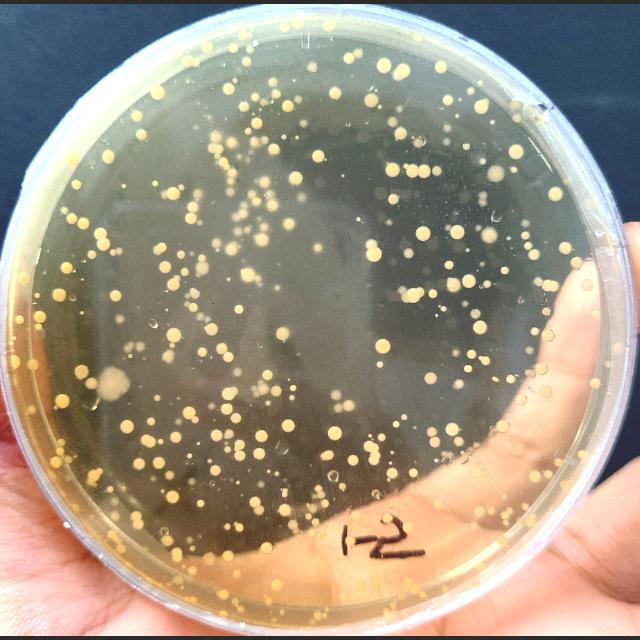colony: (97, 366, 131, 402), (486, 164, 506, 183), (480, 226, 498, 244), (581, 261, 597, 277), (64, 151, 80, 167), (240, 267, 256, 283), (508, 144, 524, 160), (366, 246, 382, 262), (473, 99, 489, 115), (74, 364, 90, 380), (375, 338, 391, 354), (376, 58, 392, 74), (385, 162, 401, 178), (415, 226, 431, 242), (450, 224, 466, 240), (166, 327, 182, 343), (547, 186, 563, 202), (397, 62, 411, 76), (96, 238, 110, 252), (514, 392, 528, 406), (364, 94, 378, 108), (102, 150, 116, 164), (56, 394, 70, 408), (52, 288, 66, 302), (473, 320, 487, 334), (496, 419, 510, 433), (542, 328, 556, 342), (196, 261, 210, 275), (539, 384, 553, 398), (205, 322, 219, 336), (151, 86, 165, 100), (120, 420, 134, 434), (289, 171, 303, 185), (394, 127, 408, 141), (276, 327, 290, 341), (282, 419, 296, 433), (166, 490, 180, 504), (462, 274, 476, 288), (328, 426, 342, 440), (10, 354, 22, 370), (406, 289, 419, 303), (255, 232, 269, 245), (152, 456, 166, 469), (528, 471, 542, 484), (182, 406, 195, 419), (140, 434, 154, 446), (612, 343, 626, 355), (322, 20, 336, 32), (524, 514, 536, 528), (144, 436, 158, 448), (34, 310, 46, 324), (448, 278, 460, 292), (582, 278, 594, 292), (168, 187, 180, 201), (570, 256, 582, 270), (558, 242, 572, 254), (204, 552, 216, 566), (329, 86, 341, 100), (94, 227, 108, 239), (445, 424, 459, 436), (536, 362, 548, 376), (424, 373, 438, 385), (278, 504, 292, 516), (160, 260, 172, 274), (406, 165, 418, 178), (162, 351, 174, 364), (225, 244, 238, 256), (49, 456, 62, 468), (418, 165, 430, 178), (167, 279, 180, 291), (85, 378, 98, 390), (210, 430, 223, 442), (220, 403, 233, 415), (512, 442, 524, 454), (18, 272, 30, 284), (363, 440, 375, 452), (471, 467, 483, 479), (222, 388, 234, 400), (355, 580, 367, 592), (402, 521, 414, 533), (27, 359, 39, 371), (170, 431, 182, 443), (61, 262, 73, 274), (78, 218, 90, 230), (110, 290, 122, 302), (387, 467, 399, 479), (253, 448, 265, 460), (312, 150, 324, 162), (222, 550, 234, 562), (528, 248, 540, 260), (435, 61, 447, 73), (133, 458, 145, 470), (261, 542, 273, 554), (223, 83, 235, 95), (282, 100, 294, 112), (256, 430, 268, 442), (185, 213, 198, 224), (412, 138, 426, 148), (401, 292, 412, 304), (351, 511, 363, 522), (432, 498, 444, 509), (66, 213, 78, 224), (230, 412, 242, 423), (586, 198, 596, 210), (172, 548, 182, 560), (542, 280, 552, 292), (496, 534, 506, 546), (548, 282, 560, 292), (210, 132, 222, 142), (366, 239, 378, 249), (250, 136, 260, 148), (88, 470, 100, 480), (202, 42, 214, 52), (226, 138, 238, 148), (172, 575, 184, 585), (132, 110, 142, 122), (382, 512, 392, 524), (130, 511, 142, 521), (268, 199, 278, 211), (234, 440, 246, 450), (474, 506, 486, 516), (217, 590, 229, 600), (443, 94, 453, 106), (162, 536, 174, 546), (210, 466, 222, 476), (258, 384, 268, 396), (216, 344, 228, 354), (260, 176, 270, 188), (136, 130, 148, 140), (284, 218, 294, 230), (330, 390, 342, 400), (252, 117, 262, 129), (262, 370, 274, 380), (268, 144, 280, 154), (348, 454, 358, 466), (270, 386, 282, 396), (108, 530, 119, 540), (454, 378, 464, 389), (430, 437, 440, 448), (250, 497, 260, 508), (388, 193, 398, 204), (454, 437, 464, 448), (344, 401, 354, 412), (225, 428, 235, 439), (234, 452, 246, 461), (296, 193, 306, 203), (510, 100, 520, 110), (393, 70, 403, 80), (27, 404, 37, 414), (214, 144, 224, 154), (152, 246, 162, 256), (354, 49, 364, 59), (324, 450, 334, 460), (238, 208, 248, 218), (346, 536, 356, 546), (116, 544, 126, 554), (368, 456, 378, 466), (230, 596, 240, 606), (313, 611, 323, 621), (135, 342, 145, 352), (115, 314, 125, 324), (288, 519, 298, 529), (110, 511, 120, 521), (229, 43, 239, 53), (188, 566, 198, 576), (512, 113, 522, 123), (308, 62, 318, 72), (470, 309, 480, 319), (211, 238, 221, 248), (506, 374, 516, 384), (590, 378, 600, 388), (268, 77, 278, 87), (134, 520, 144, 530), (72, 180, 82, 190), (254, 506, 264, 516), (197, 347, 207, 357), (239, 102, 249, 112), (432, 166, 442, 176), (388, 117, 398, 127), (188, 202, 198, 212), (344, 54, 354, 64), (234, 304, 244, 314), (272, 580, 282, 590), (404, 249, 414, 259), (224, 352, 234, 362), (410, 584, 420, 594), (404, 577, 414, 587), (560, 480, 570, 490), (362, 516, 371, 526), (370, 443, 380, 452), (427, 428, 437, 437), (466, 349, 476, 358), (408, 468, 418, 477), (543, 469, 553, 478), (412, 34, 423, 42), (333, 403, 342, 412), (372, 576, 380, 586), (370, 452, 380, 460), (174, 552, 182, 562), (182, 58, 192, 66), (265, 190, 275, 198), (192, 290, 200, 300), (478, 191, 488, 199), (16, 315, 24, 325), (442, 124, 452, 132), (56, 447, 66, 455), (218, 157, 228, 165), (271, 90, 281, 98), (157, 243, 167, 251), (259, 223, 269, 231), (110, 498, 120, 506), (265, 596, 273, 606), (524, 346, 534, 354), (228, 168, 236, 178), (482, 356, 490, 366), (234, 368, 242, 378), (64, 454, 72, 464), (234, 227, 242, 237), (488, 506, 496, 516), (482, 280, 492, 288), (314, 243, 322, 253), (180, 268, 190, 276), (428, 290, 438, 298), (444, 261, 454, 269), (242, 58, 252, 66), (166, 470, 174, 480), (476, 562, 484, 572), (126, 560, 134, 570), (281, 23, 289, 32), (499, 511, 508, 519), (578, 449, 586, 458), (398, 286, 407, 294), (309, 503, 317, 512), (554, 458, 562, 467), (244, 156, 253, 164), (403, 496, 412, 504), (158, 581, 165, 591), (320, 453, 328, 461), (87, 478, 95, 486), (451, 458, 459, 466), (479, 199, 487, 207), (294, 20, 302, 28), (61, 206, 69, 214), (207, 144, 215, 152), (528, 370, 536, 378), (192, 59, 200, 67), (416, 288, 424, 296), (474, 456, 482, 464), (604, 360, 612, 368), (239, 32, 247, 40), (582, 343, 590, 351), (174, 418, 182, 426), (592, 310, 600, 318), (246, 46, 254, 54), (232, 213, 240, 221), (467, 87, 475, 95), (230, 387, 238, 395), (196, 313, 204, 321), (392, 420, 400, 428), (236, 524, 244, 532), (116, 247, 124, 255), (123, 345, 131, 353), (318, 529, 326, 537), (194, 190, 202, 198), (237, 605, 245, 613), (309, 529, 317, 537), (248, 190, 256, 198), (521, 503, 529, 511), (470, 522, 478, 530), (395, 105, 403, 113), (542, 307, 550, 315), (294, 96, 302, 104), (58, 438, 66, 446), (233, 570, 241, 578), (464, 365, 472, 373), (188, 478, 196, 486), (524, 242, 532, 250), (300, 120, 308, 128), (224, 446, 232, 454), (198, 254, 206, 262), (317, 491, 325, 499), (208, 402, 216, 410), (452, 349, 460, 357), (501, 266, 509, 274), (443, 138, 451, 146), (252, 198, 260, 206), (312, 518, 320, 526), (147, 418, 155, 426), (261, 136, 269, 144), (321, 499, 329, 507), (531, 327, 539, 335), (177, 251, 185, 259), (226, 188, 234, 196), (251, 93, 259, 101), (534, 278, 542, 286), (378, 433, 386, 441), (190, 304, 198, 312), (88, 250, 96, 258), (441, 584, 449, 592), (398, 591, 406, 599), (220, 610, 228, 618), (190, 596, 198, 604), (145, 576, 153, 584), (254, 281, 264, 287), (521, 220, 529, 227), (213, 152, 220, 160), (500, 494, 508, 501), (243, 226, 250, 234), (400, 414, 408, 421), (227, 178, 235, 185), (338, 484, 346, 491), (197, 499, 205, 506), (419, 590, 426, 598), (384, 607, 391, 615), (223, 163, 230, 170), (479, 158, 486, 165), (388, 500, 394, 508), (468, 456, 476, 462), (160, 192, 168, 198), (252, 391, 260, 397), (204, 316, 212, 322), (446, 452, 454, 458), (142, 546, 148, 554), (476, 224, 482, 232), (516, 518, 524, 524), (386, 218, 392, 226), (254, 276, 262, 282), (462, 144, 470, 150), (186, 538, 194, 544), (279, 608, 285, 616), (462, 300, 468, 308), (154, 394, 160, 402), (376, 362, 384, 368), (292, 528, 300, 534), (178, 184, 184, 192), (472, 442, 480, 448), (521, 232, 529, 238), (106, 486, 114, 492), (244, 128, 252, 134), (240, 202, 248, 208), (506, 508, 514, 514), (315, 486, 323, 492), (257, 482, 265, 488), (308, 620, 316, 626), (36, 324, 42, 331), (173, 275, 180, 281), (248, 148, 255, 154), (312, 494, 318, 500), (150, 476, 156, 482), (128, 342, 134, 348), (196, 272, 202, 278), (184, 301, 190, 307), (236, 154, 242, 160), (271, 618, 277, 624), (282, 488, 288, 494), (492, 376, 498, 382), (251, 386, 257, 392), (324, 607, 330, 613), (282, 491, 288, 497), (441, 451, 447, 457), (322, 612, 328, 618), (96, 468, 102, 474), (190, 546, 196, 552), (274, 285, 280, 291), (169, 342, 175, 348), (184, 293, 190, 299), (158, 439, 164, 445), (232, 78, 238, 84), (265, 400, 271, 406), (503, 520, 509, 526), (152, 180, 158, 186), (110, 250, 116, 256), (225, 524, 231, 530), (306, 514, 312, 520), (290, 385, 296, 391), (192, 417, 198, 423), (390, 602, 396, 608), (390, 608, 396, 614), (256, 216, 262, 222), (260, 100, 268, 104), (248, 32, 252, 38), (198, 220, 202, 226), (206, 116, 212, 120), (540, 424, 546, 428), (118, 538, 122, 544), (478, 356, 484, 360), (480, 262, 486, 266), (306, 502, 310, 508), (506, 236, 512, 240), (478, 80, 482, 86), (34, 294, 40, 298), (511, 168, 517, 172), (442, 306, 446, 312), (356, 216, 360, 222), (282, 134, 286, 140), (190, 251, 194, 257), (458, 96, 462, 102), (177, 396, 181, 400), (181, 585, 185, 589), (237, 245, 241, 249), (526, 370, 530, 374), (80, 311, 84, 315), (161, 489, 165, 493), (404, 164, 408, 168), (215, 248, 219, 252), (460, 451, 464, 455), (254, 42, 258, 46), (434, 458, 438, 462), (368, 434, 372, 438), (390, 451, 394, 455), (227, 277, 231, 281), (197, 441, 201, 445), (128, 354, 132, 358), (236, 481, 240, 485), (266, 469, 270, 473), (378, 105, 382, 109), (295, 135, 299, 139), (122, 184, 126, 188), (466, 248, 470, 252), (455, 114, 459, 118), (208, 459, 212, 463), (275, 472, 279, 476), (490, 120, 494, 124), (188, 454, 192, 458), (290, 396, 294, 400), (278, 262, 282, 266), (258, 108, 262, 110), (166, 308, 168, 312), (388, 462, 392, 464), (435, 314, 439, 316), (439, 304, 441, 308), (298, 352, 300, 356), (184, 280, 186, 284), (426, 596, 428, 600), (240, 494, 243, 496), (82, 278, 85, 280), (342, 175, 344, 178), (288, 378, 290, 380), (294, 79, 296, 81), (252, 113, 254, 115), (414, 426, 416, 428), (284, 340, 286, 342)
